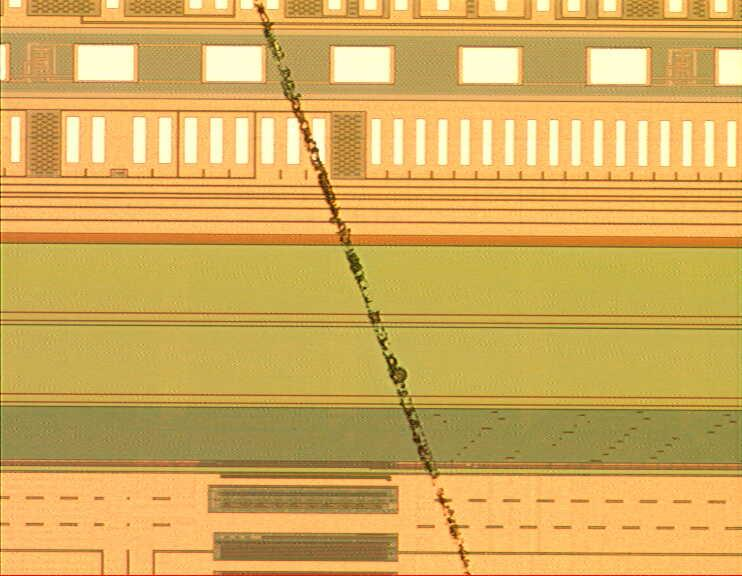SCRATCH: (239, 1, 483, 576), (441, 404, 739, 474)
